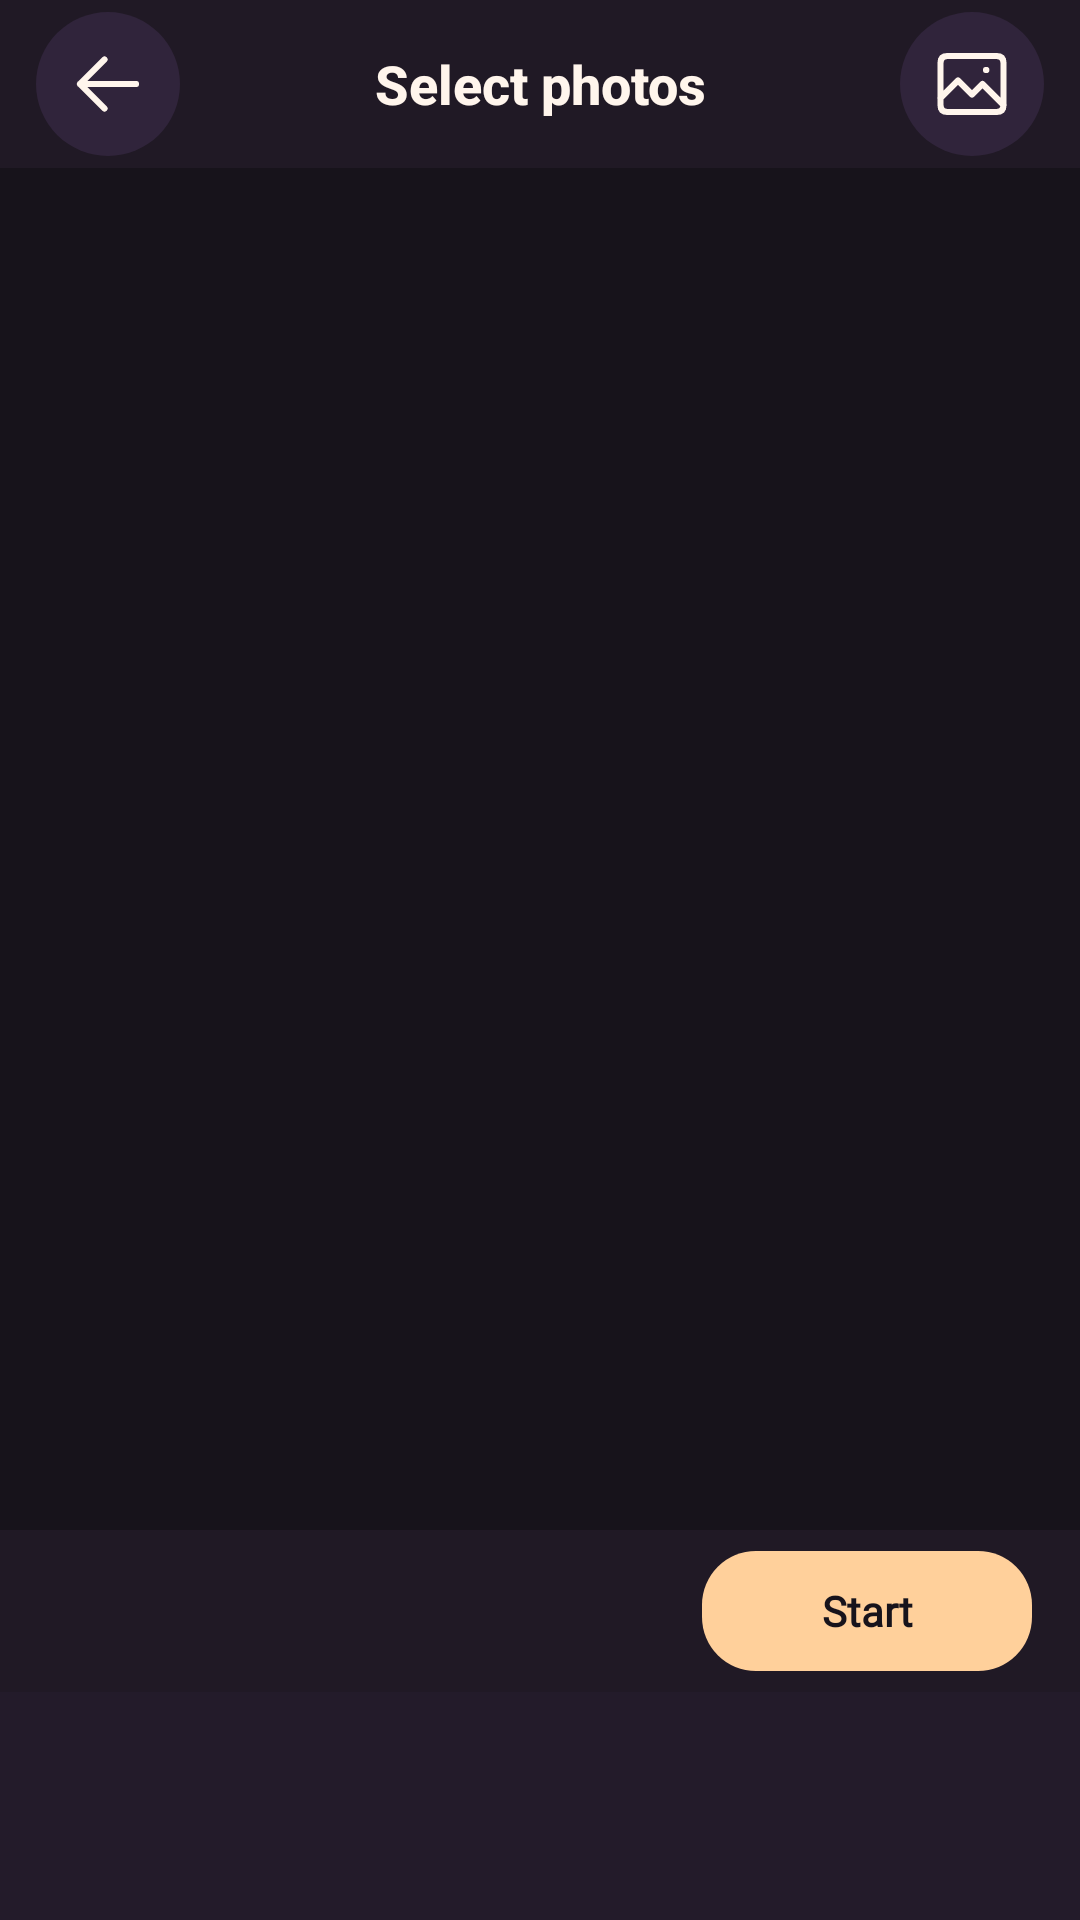

Screen size 1080px×1920px. Icon name, then its box in pixels as (x1, y1, x2, y2):
Back: (36, 12, 180, 156)
Browse photos: (900, 12, 1044, 156)
